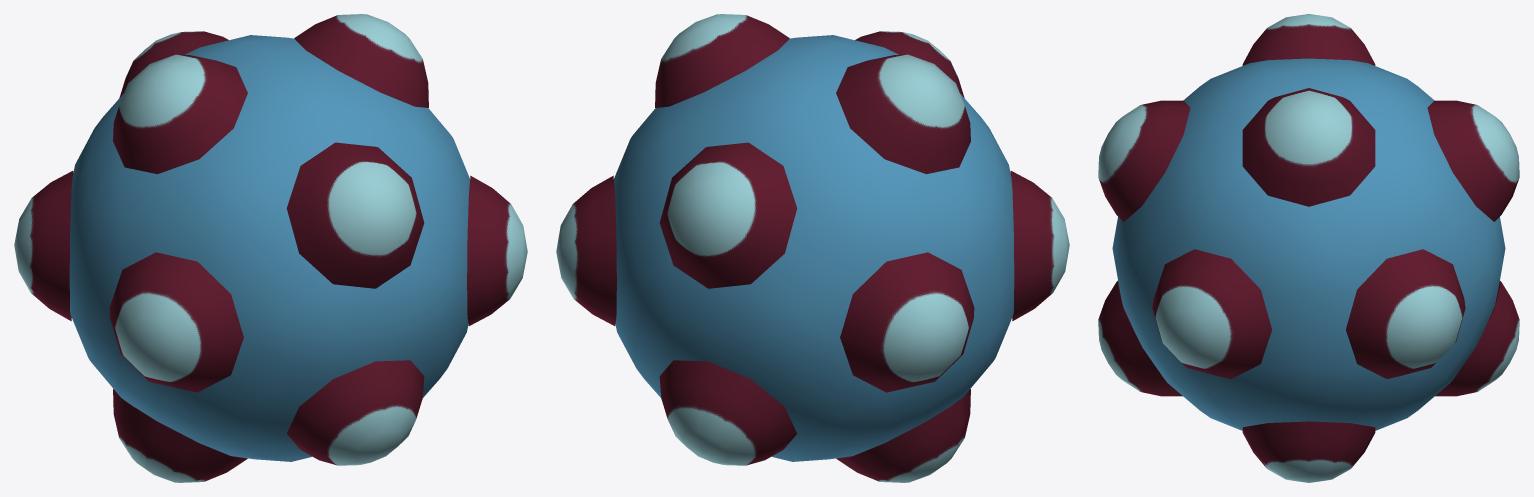
File: katamari.fbx
The picture shows the model from 3 angles, left to right: view 1: azimuth 30°, elevation 25°; view 2: azimuth 150°, elevation 25°; view 3: azimuth 270°, elevation 25°; orthographic projection. The views are drawn at different scales.
Visible parts, largest first — view 1: polySurface1; view 2: polySurface1; view 3: polySurface1.
Boxes of the visible parts, bbox=[...] form: polySurface1: bbox=[14, 14, 527, 482]; polySurface1: bbox=[556, 14, 1069, 482]; polySurface1: bbox=[1098, 14, 1519, 482].
Bounding box in the file's own units: 45.82 × 45.82 × 45.82.
